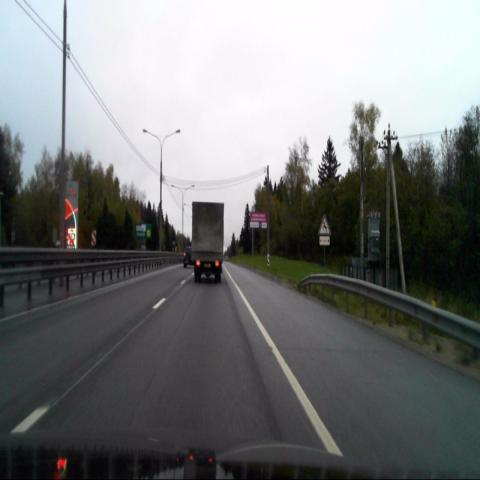1_27: (318, 213, 331, 236)
